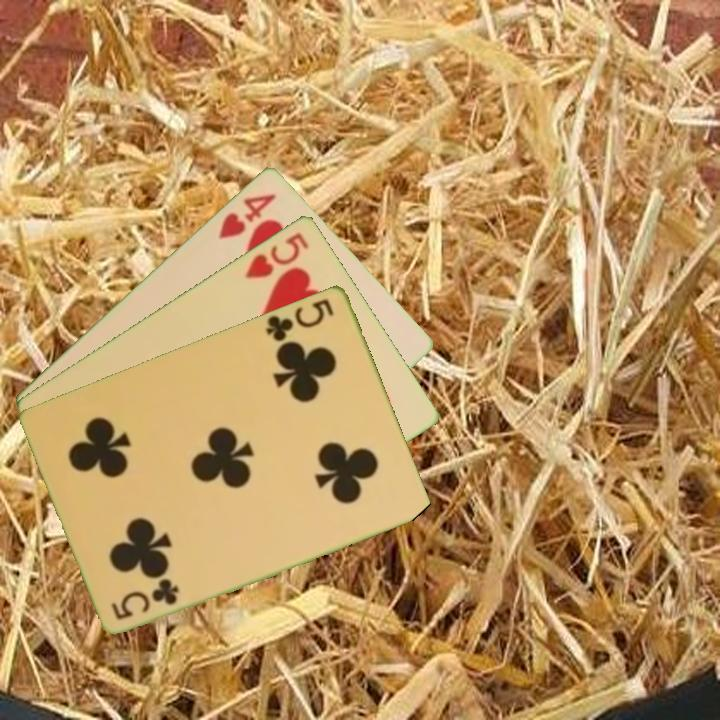4h: (215, 189, 279, 242)
5c: (262, 294, 337, 348), (108, 576, 182, 622)
5h: (241, 228, 312, 281)
